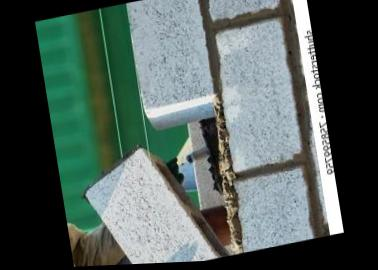brick: (212, 14, 307, 172), (125, 0, 214, 114), (232, 164, 313, 253), (205, 0, 280, 18)
